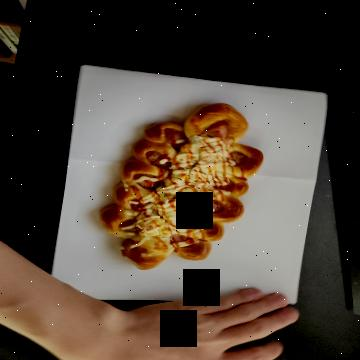pizza_bread: (99, 91, 267, 257)
